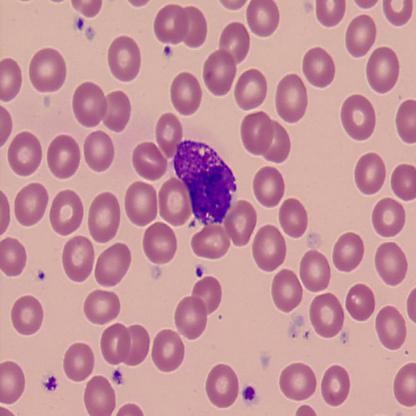Basophil: (171, 134, 238, 228)
